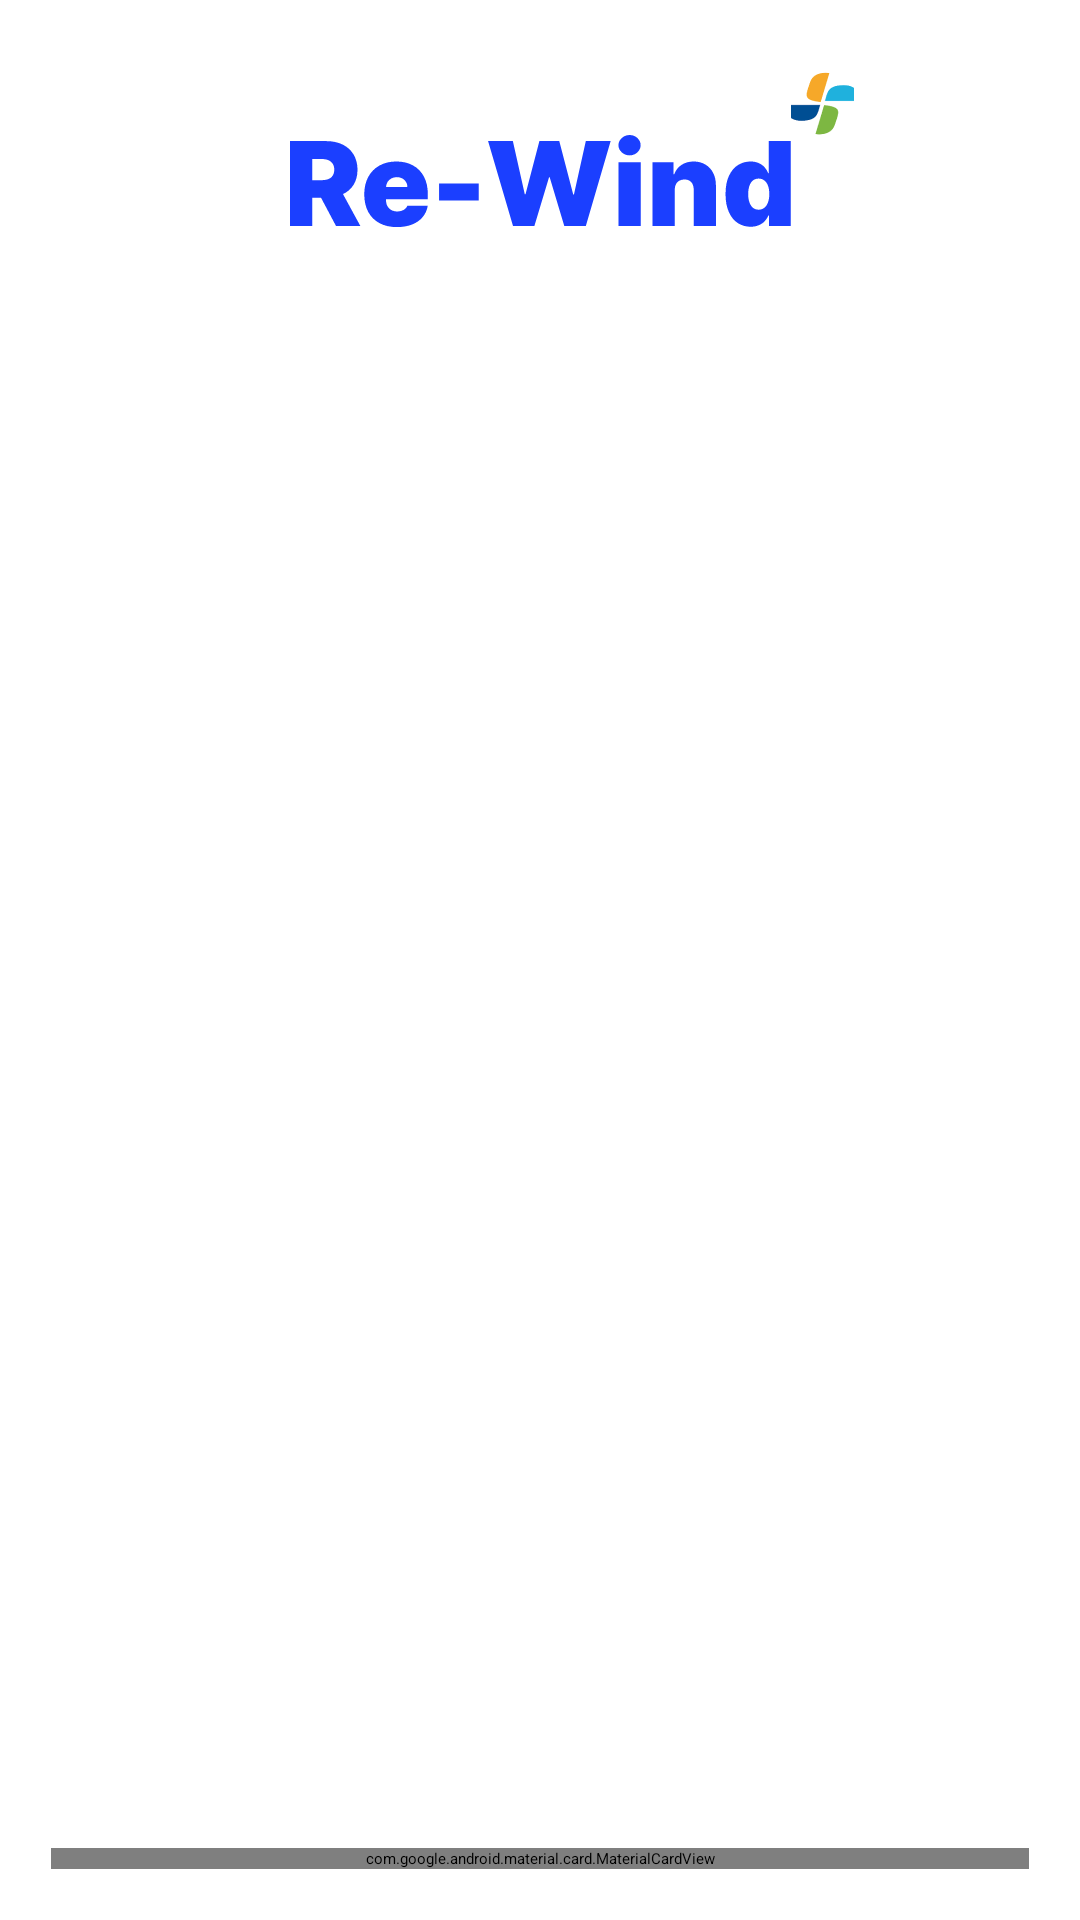

Where icons sit on this 1080 x 1920 app screen, as [x1, y1, x2, y2]:
vane: [791, 72, 854, 135]
